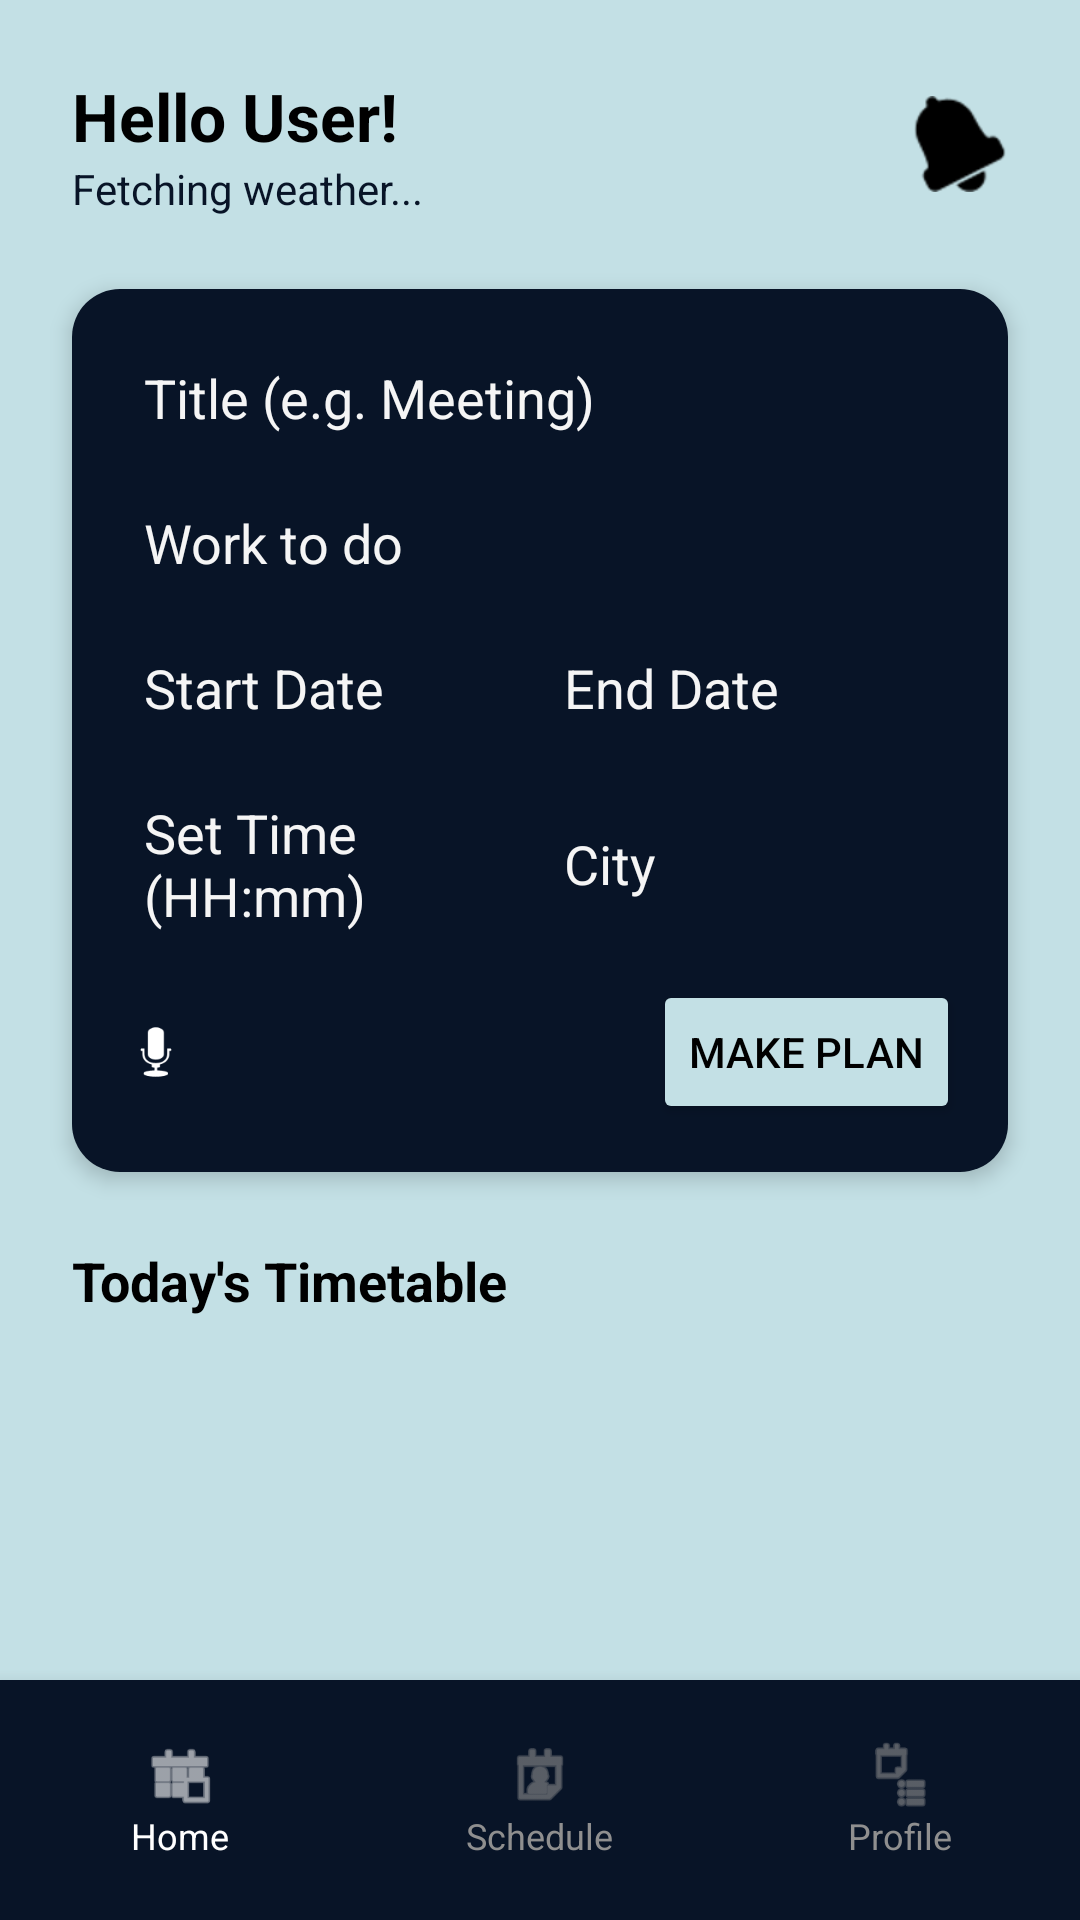

Where to tap for icons on this 1080px×1920px app screen, as (x=x, y=y):
agenda: (x=900, y=1775)
Notifications: (x=960, y=144)
speak now: (x=156, y=1052)
